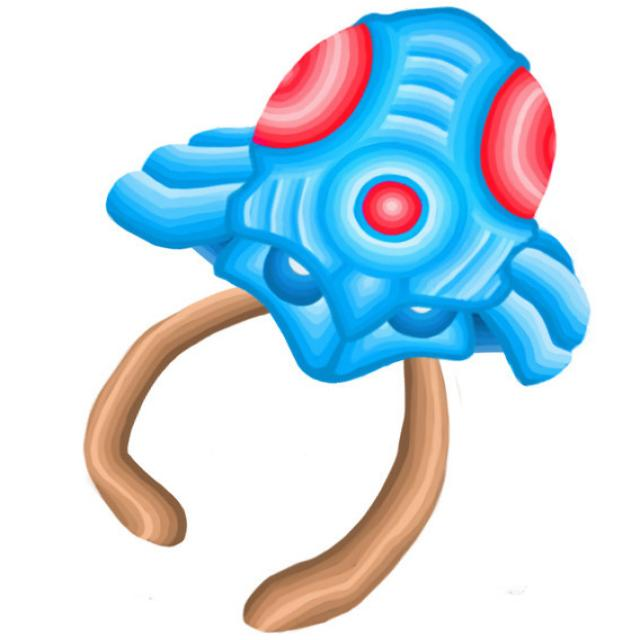Tentacool: (108, 4, 582, 487)
